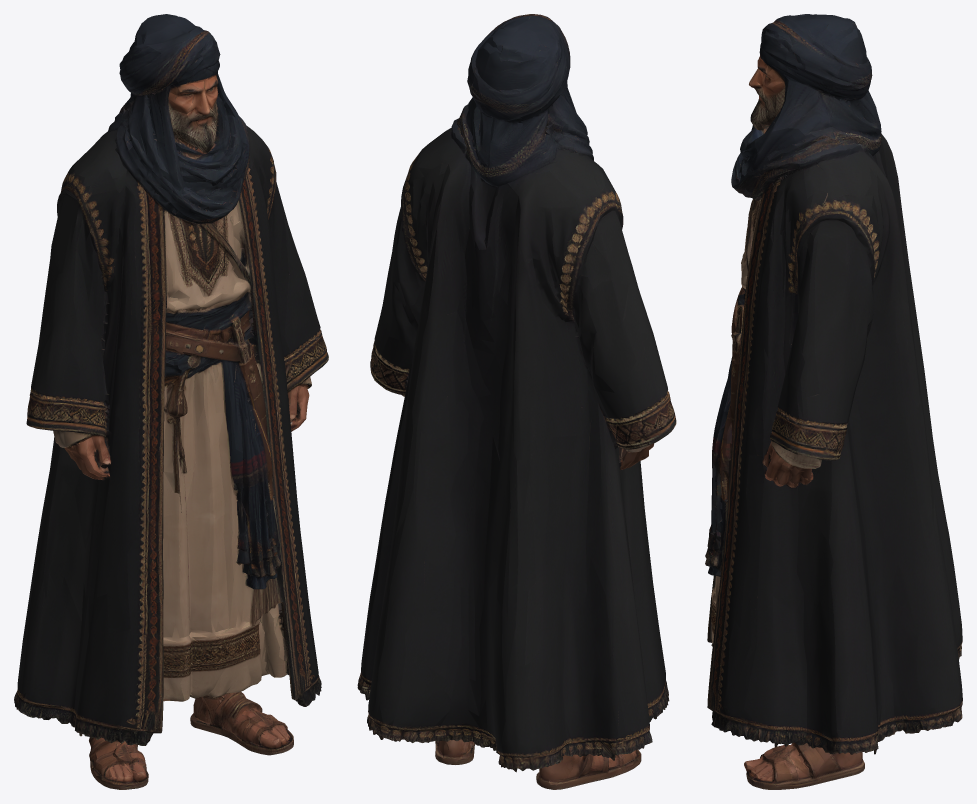
File: chief.glb
3 renders of one model, left to right at view 1: azimuth 30°, elevation 25°; view 2: azimuth 150°, elevation 25°; view 3: azimuth 270°, elevation 25°, orthographic.
Bounding box in the file's own units: 0.8085 × 1.9 × 0.6109.
1 material, 1 textured.
